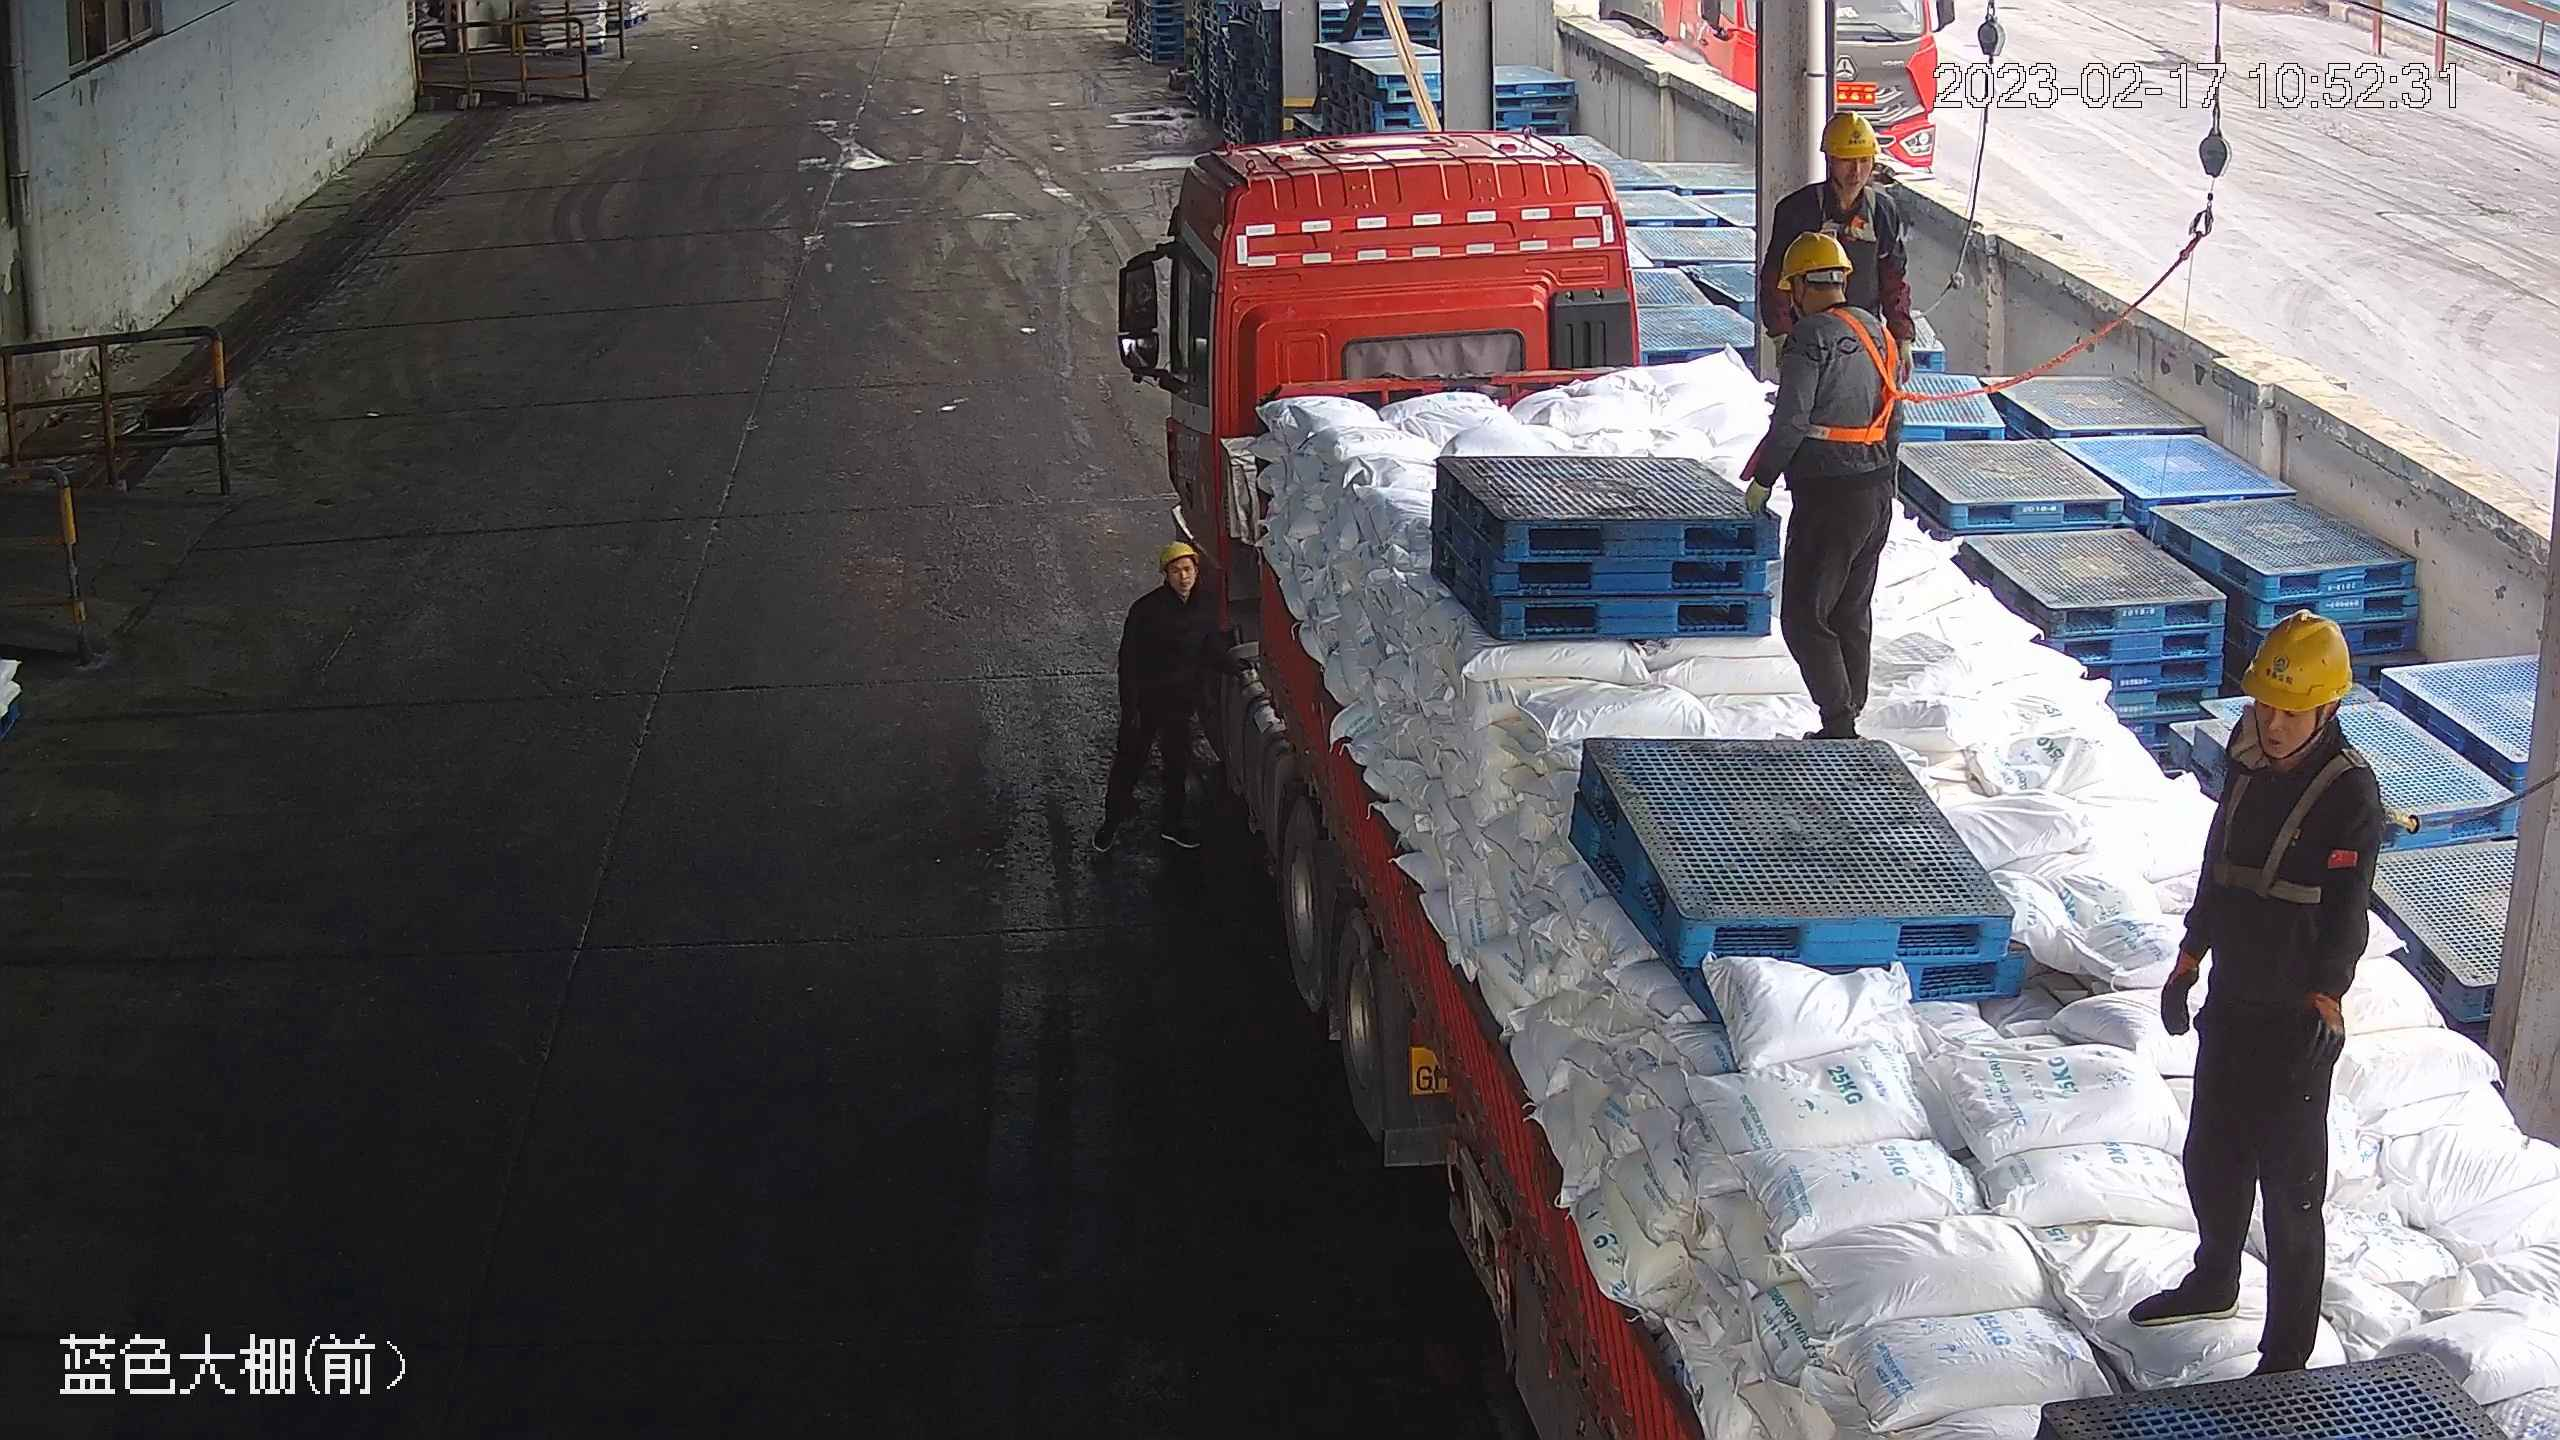belt: (2211, 742, 2388, 902), (1797, 303, 1918, 447), (1816, 175, 1892, 245)
head: (2211, 611, 2391, 829), (1771, 228, 1906, 369), (1771, 110, 1907, 224), (1124, 538, 1215, 647)
helmet: (2234, 609, 2355, 712), (1773, 227, 1849, 287), (1821, 109, 1881, 159), (1157, 538, 1201, 571)
people: (2142, 611, 2383, 1370), (1735, 229, 1908, 739), (1098, 536, 1233, 860), (1767, 108, 1909, 373)
truck: (1118, 130, 2553, 1440)
